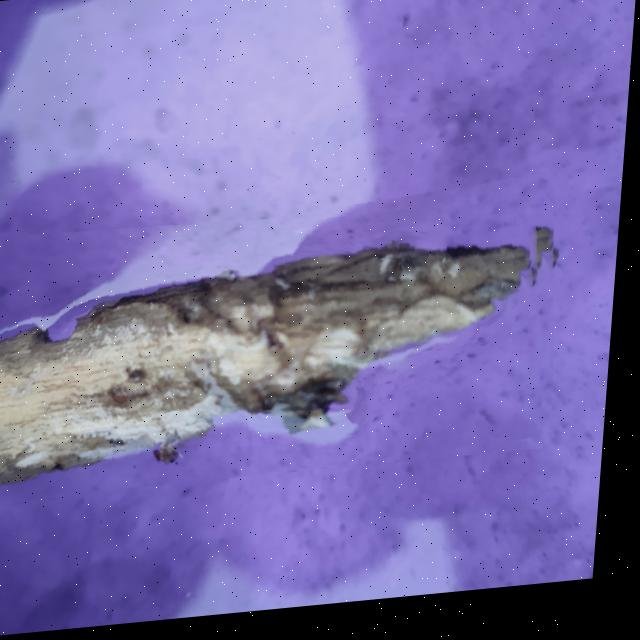wood: (0, 192, 568, 503)
